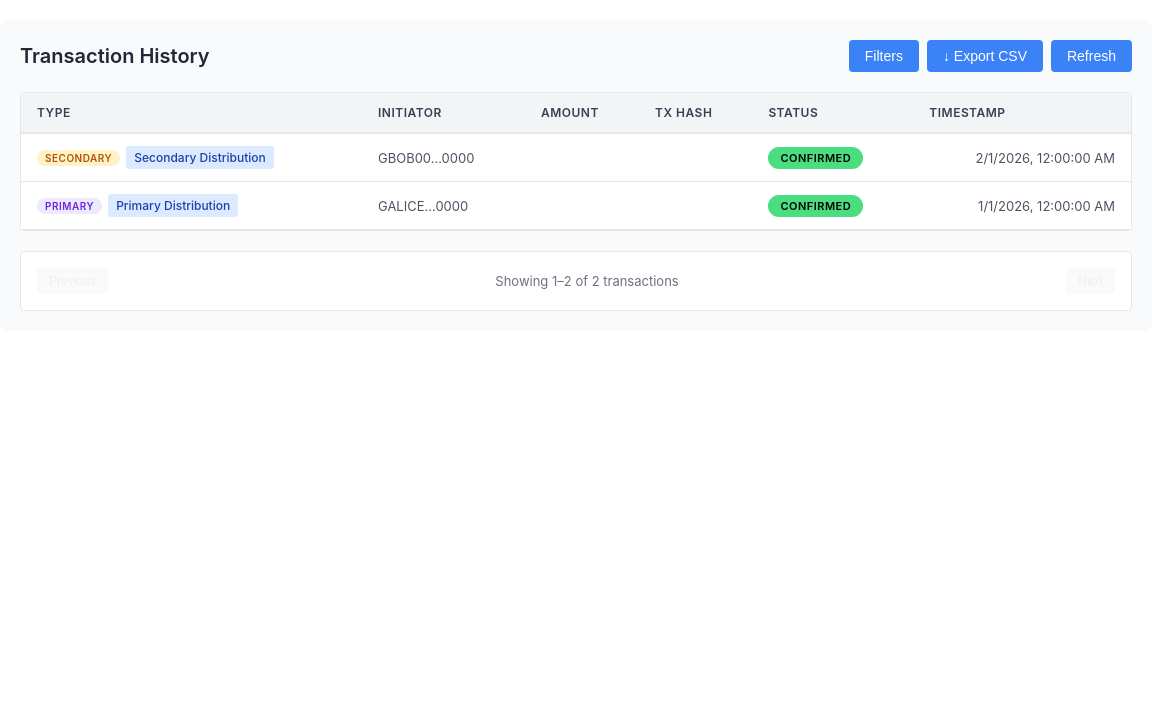
Test: TransactionHistory filtering and search (#754) › resets search, token, category and sort state on 'Reset all filters'
Check: the text "Showing 1–2 of 2 transactions" is shown, box left=495, top=273, right=679, bottom=289
Click the button "Filters" at (884, 56), box left=849, top=40, right=919, bottom=72
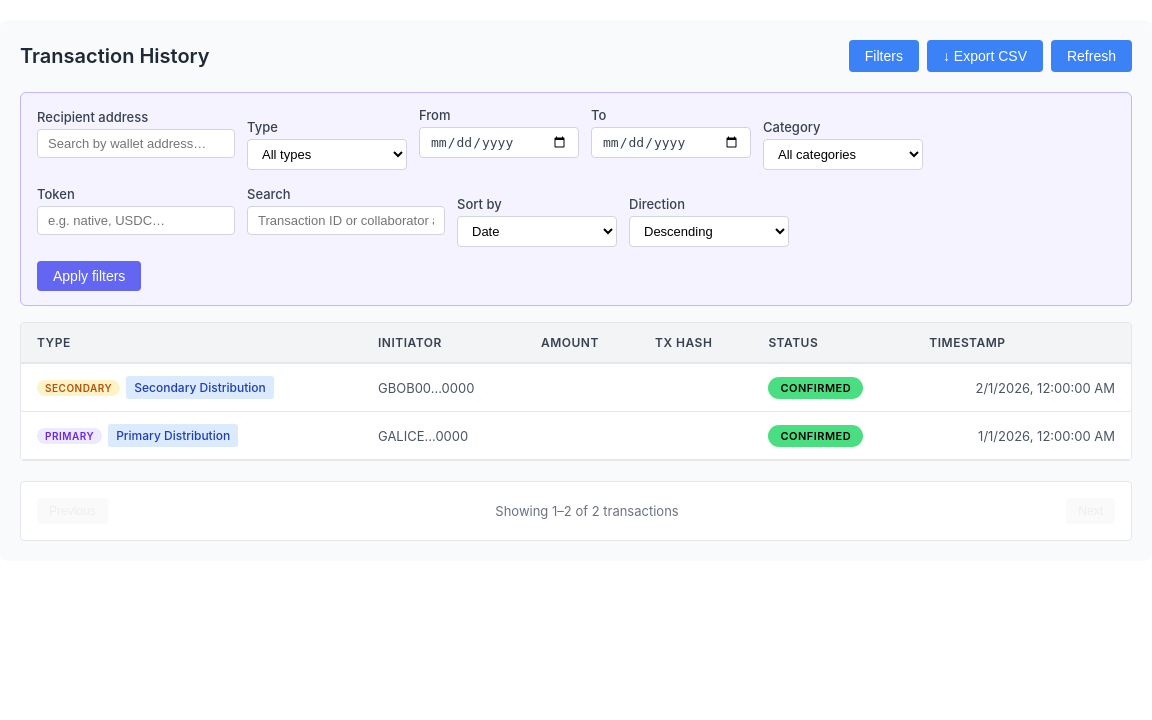
Type "GBOB" into the field named "Search by transaction ID or collaborator address" at (346, 220), box left=247, top=206, right=445, bottom=235
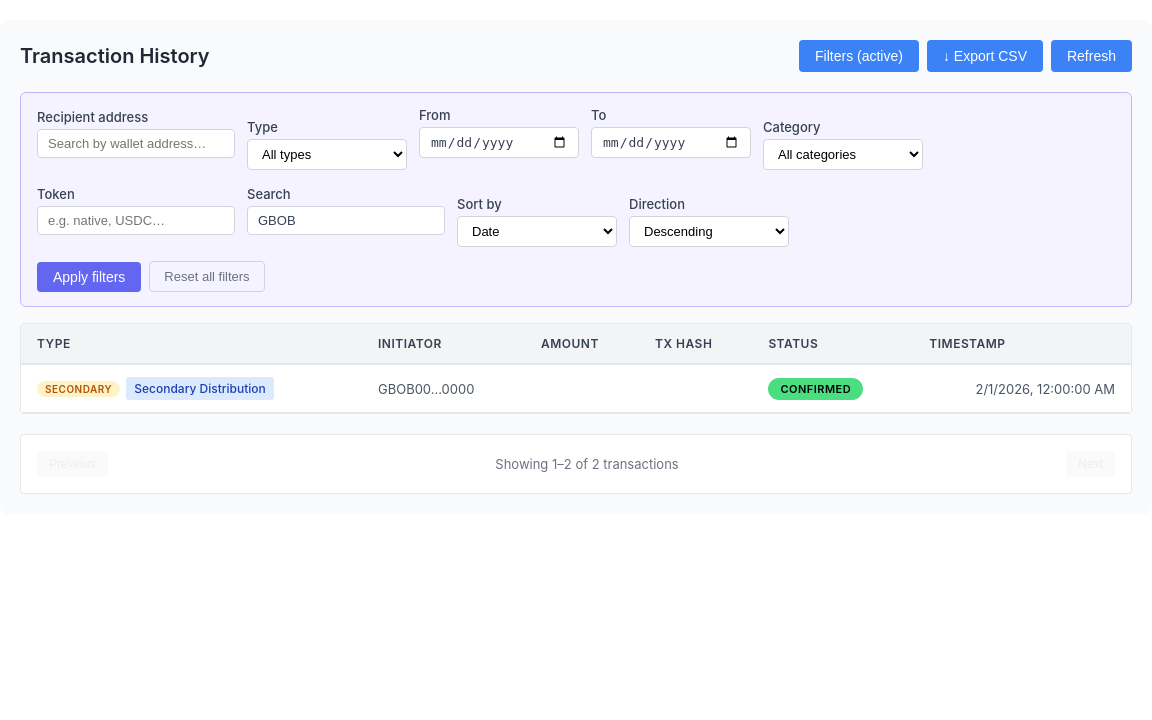
Check: the cell titled "GALICE0000000000000000000000000000000000000000" is gone
Click the button "Reset all filters" at (207, 276), box left=149, top=261, right=265, bottom=292
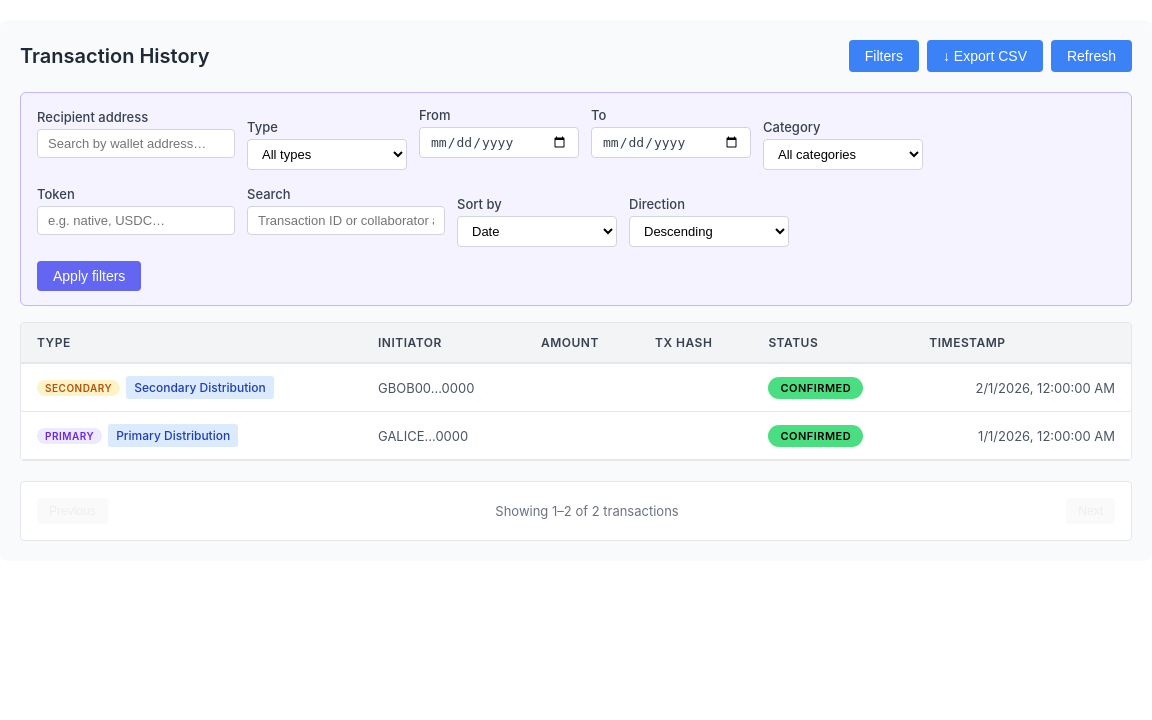
Check: the cell titled "GBOB0000000000000000000000000000000000000000000" is shown, box left=362, top=363, right=525, bottom=412
Check: the cell titled "GALICE0000000000000000000000000000000000000000" is shown, box left=362, top=412, right=525, bottom=460
